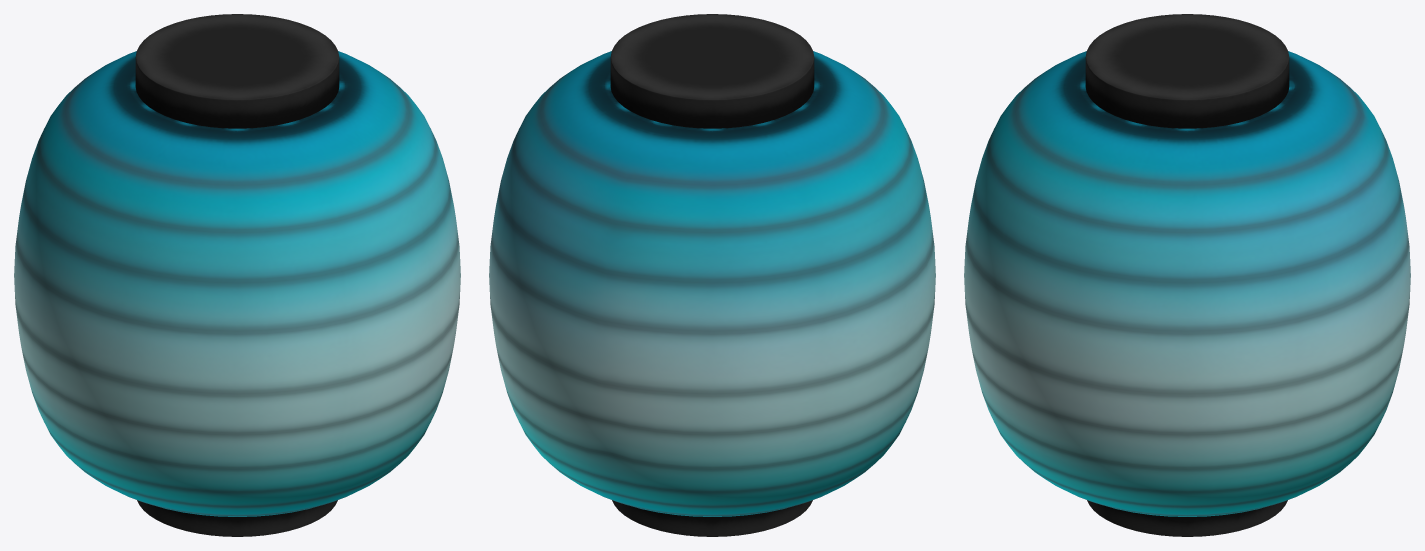
File: Lantern02.FBX
3 renders of one model, left to right at view 1: azimuth 30°, elevation 25°; view 2: azimuth 150°, elevation 25°; view 3: azimuth 270°, elevation 25°, orthographic.
Parts seen in each view (by area): view 1: Lantern02; view 2: Lantern02; view 3: Lantern02.
Boxes of the visible parts, <box> form: Lantern02: <box>14,14,460,536</box>; Lantern02: <box>489,14,935,536</box>; Lantern02: <box>964,14,1410,536</box>.
Bounding box in the file's own units: 0.4114 × 0.4442 × 0.4114.
